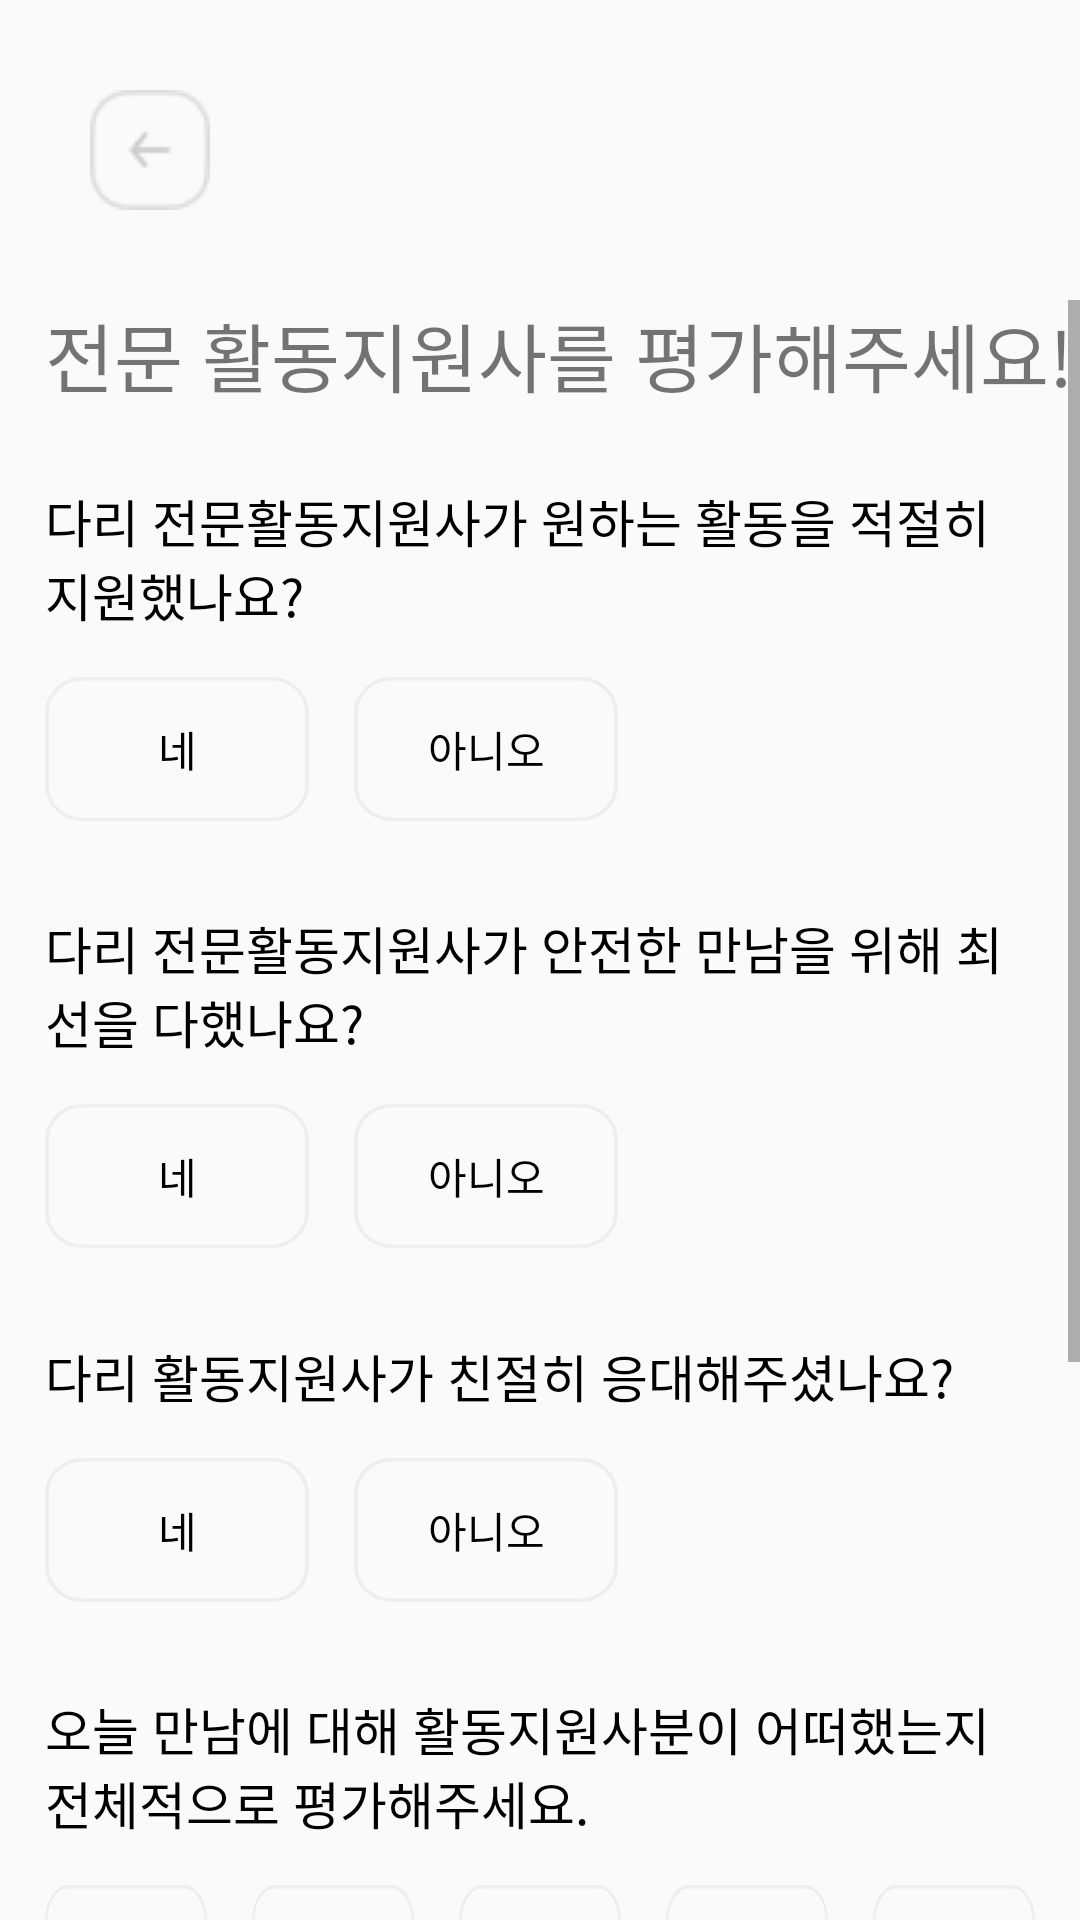

Locate icon controls on the screen. Image size 1080*1920, boxes as (x1, y1, x2, y2).
arrow: (90, 90, 210, 210)
